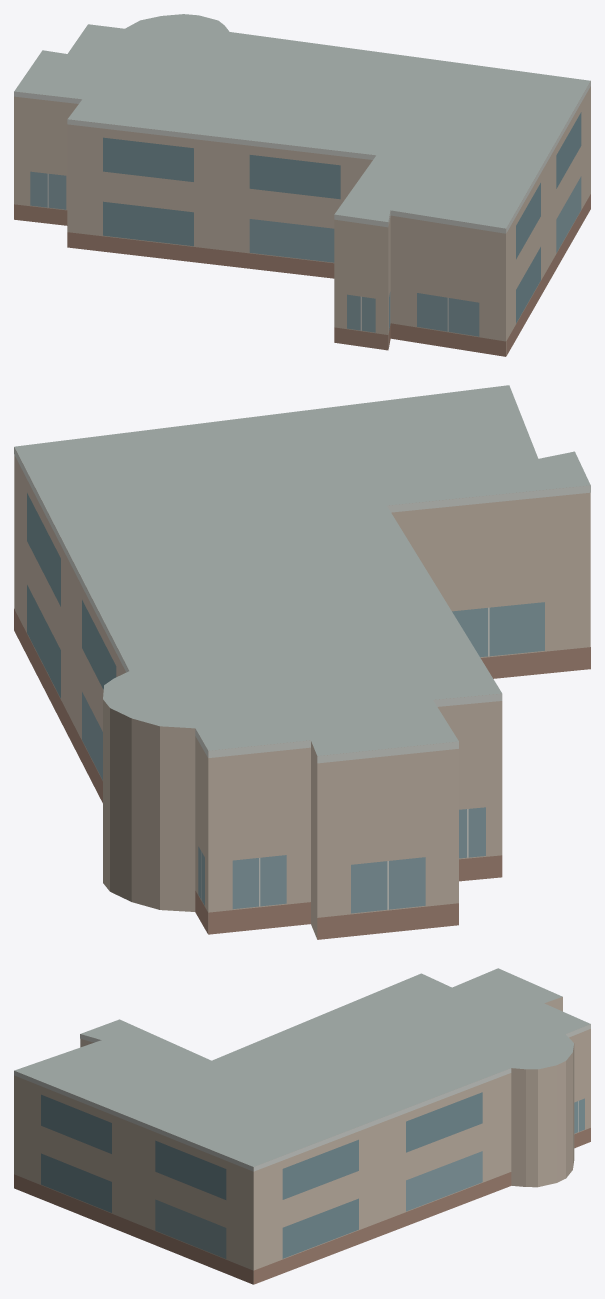
File: survey-upis-33019726.glb
3 views of the same model, one above another, from view 1: azimuth 30°, elevation 25°; view 2: azimuth 150°, elevation 25°; view 3: azimuth 270°, elevation 25° (orthographic). The views are drawn at different scales.
Visible parts, largest first — view 1: survey-upis-33019726.tmp; view 2: survey-upis-33019726.tmp; view 3: survey-upis-33019726.tmp.
Boxes of the visible parts, x1,y1,x2,y2 form: survey-upis-33019726.tmp: (14, 14, 590, 356); survey-upis-33019726.tmp: (14, 385, 590, 939); survey-upis-33019726.tmp: (14, 968, 590, 1284).
Bounding box in the file's own units: 22.1 × 6.1 × 27.09.
